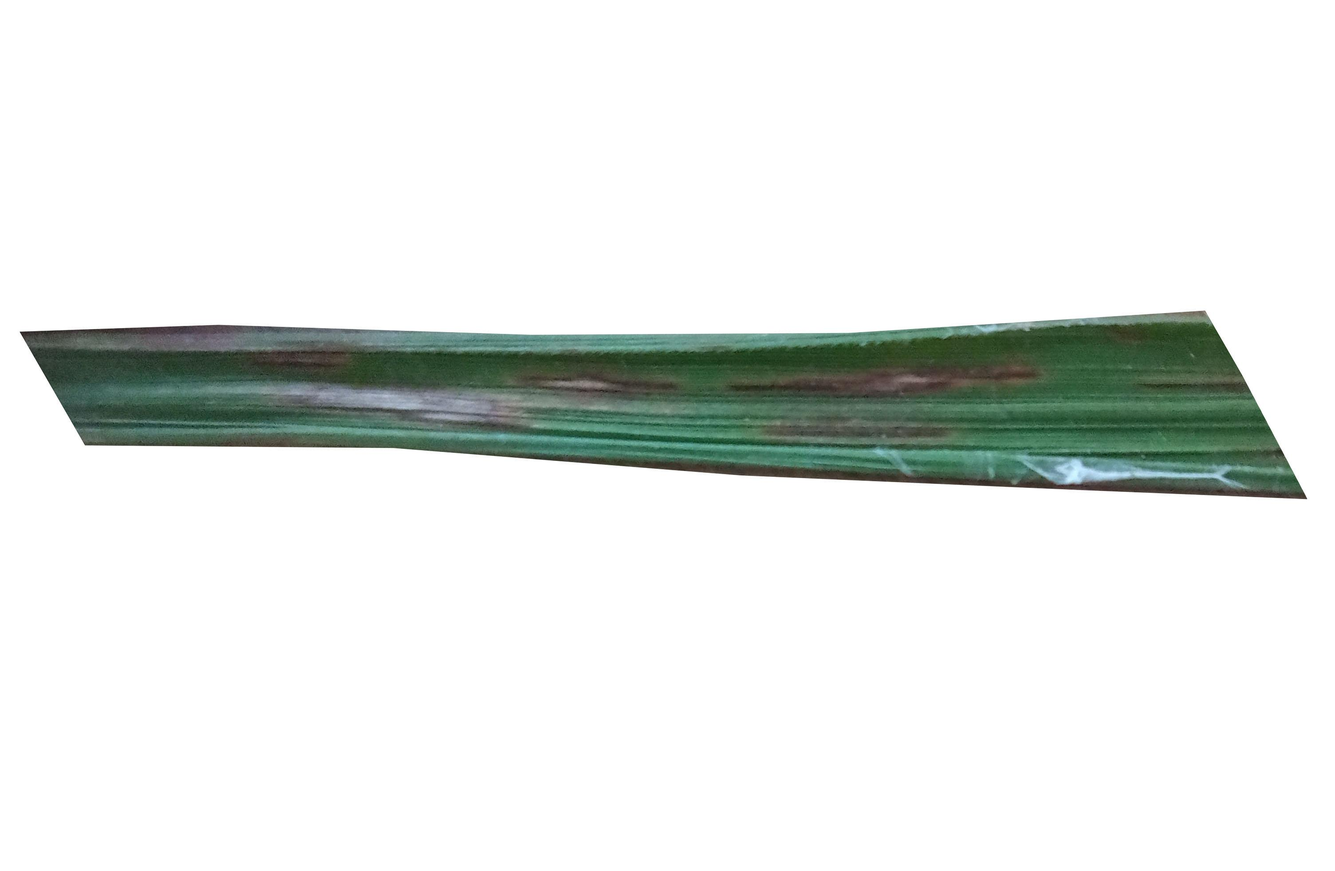Blight: (728, 337, 1038, 412), (109, 326, 397, 388), (501, 344, 672, 408)
